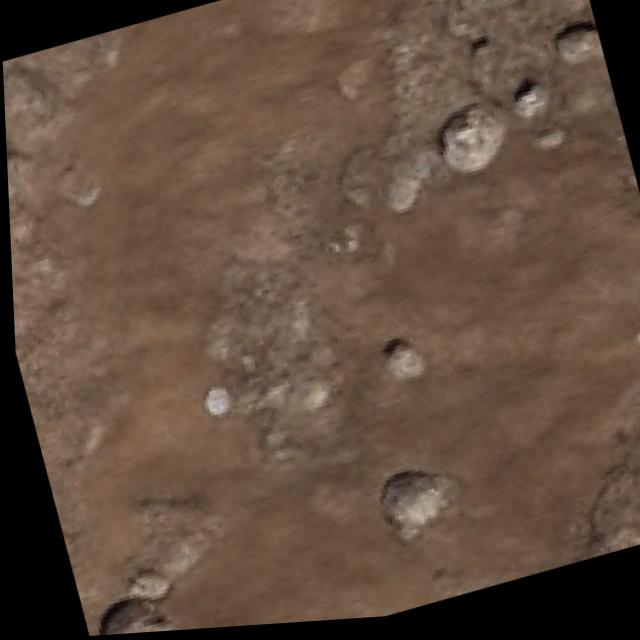Crater: (2, 48, 149, 565)
